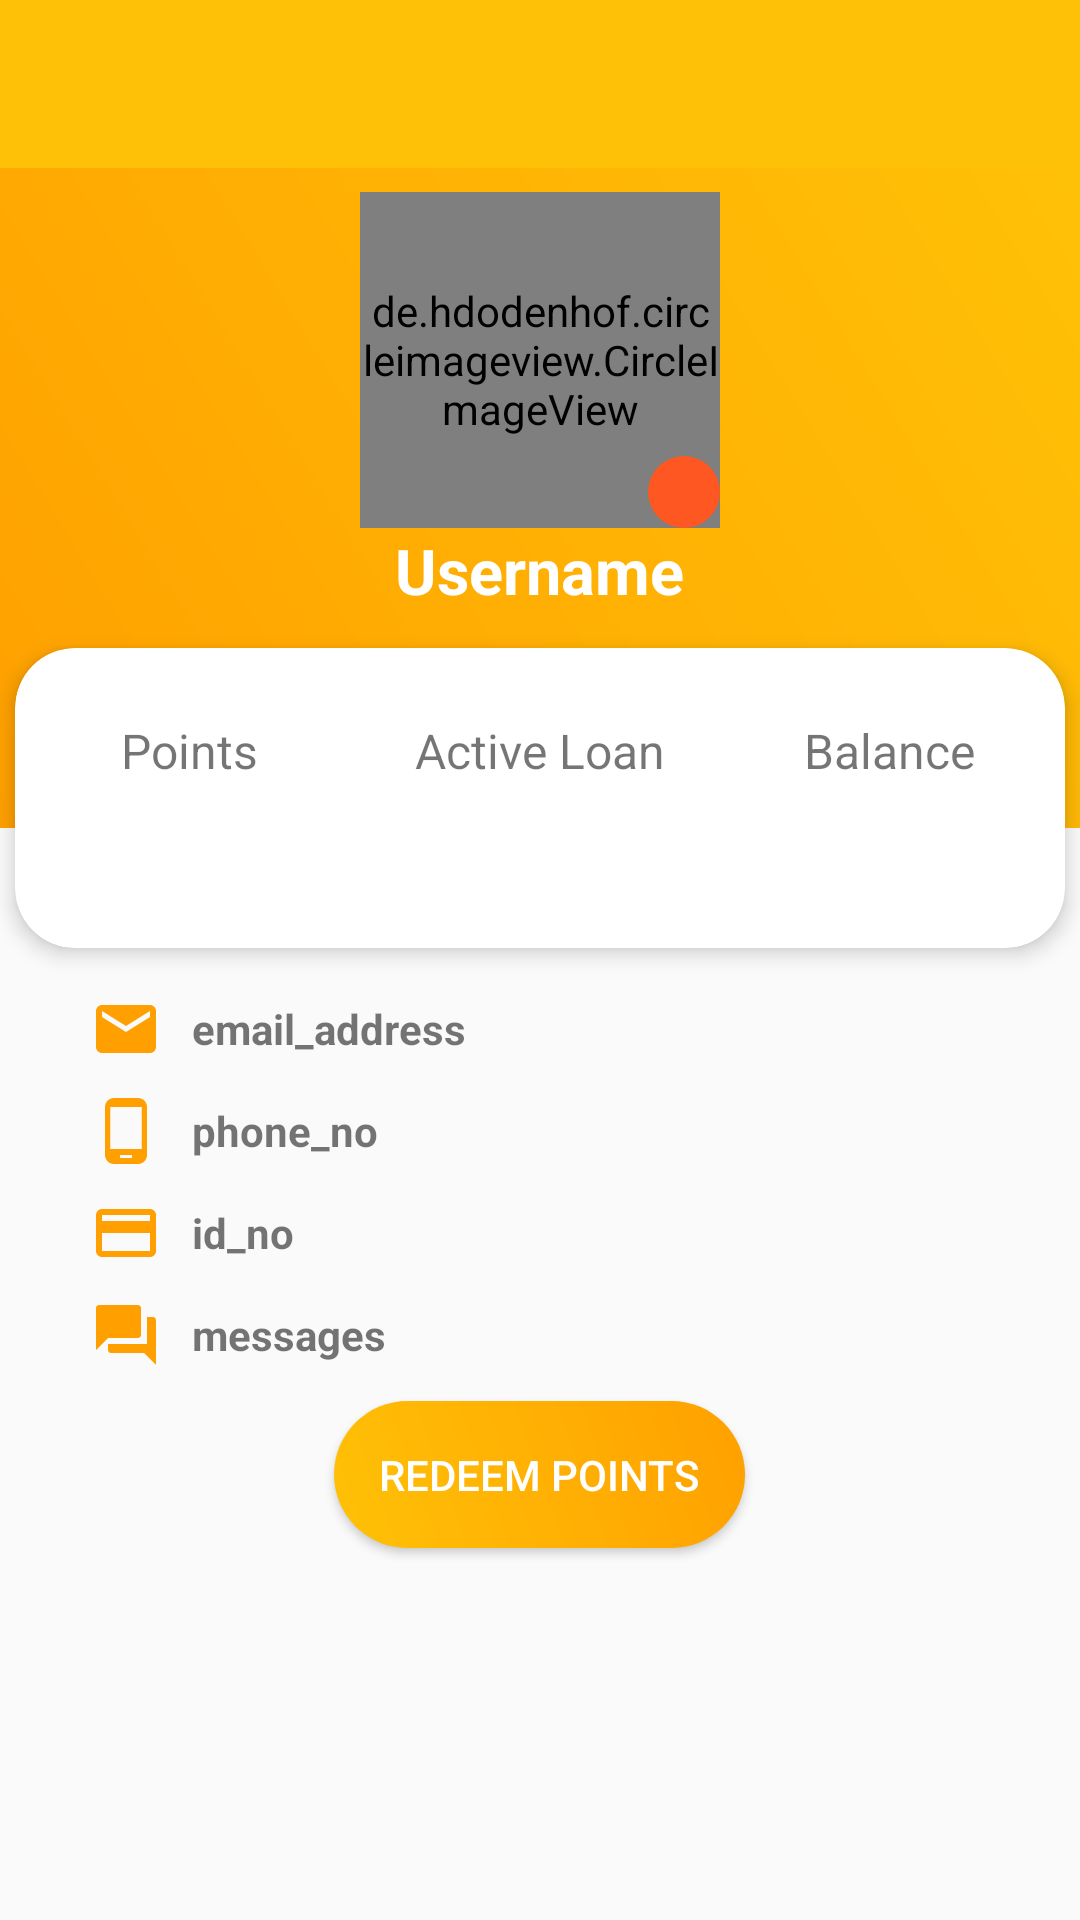

Where icons sit on this 1080px x 1920px app screen, as [left=x1, top=y1, right=x2, bottom=y2]:
credit card: [left=96, top=1209, right=156, bottom=1257]
forum: [left=96, top=1305, right=156, bottom=1365]
phone android: [left=105, top=1098, right=147, bottom=1164]
